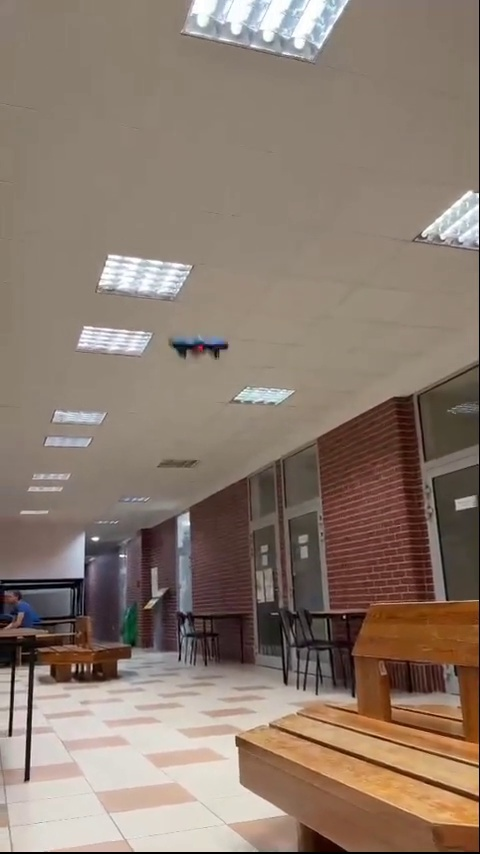drone: (170, 334, 229, 355)
no vest: (2, 589, 37, 635)
